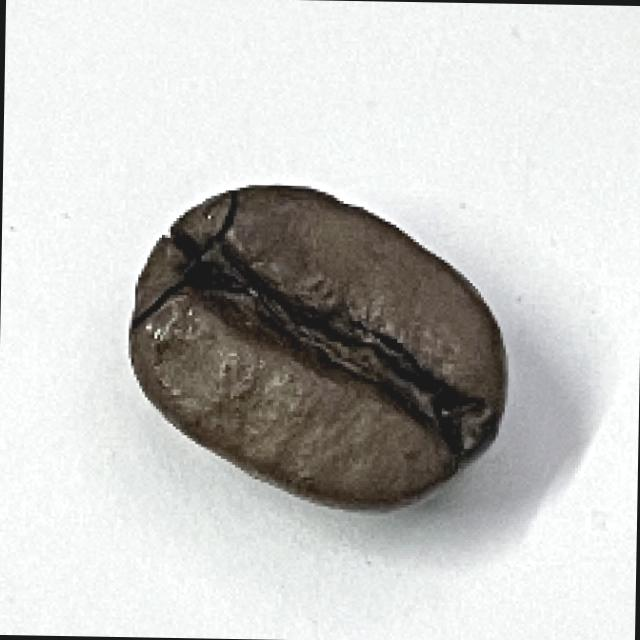bean: (116, 178, 506, 516)
